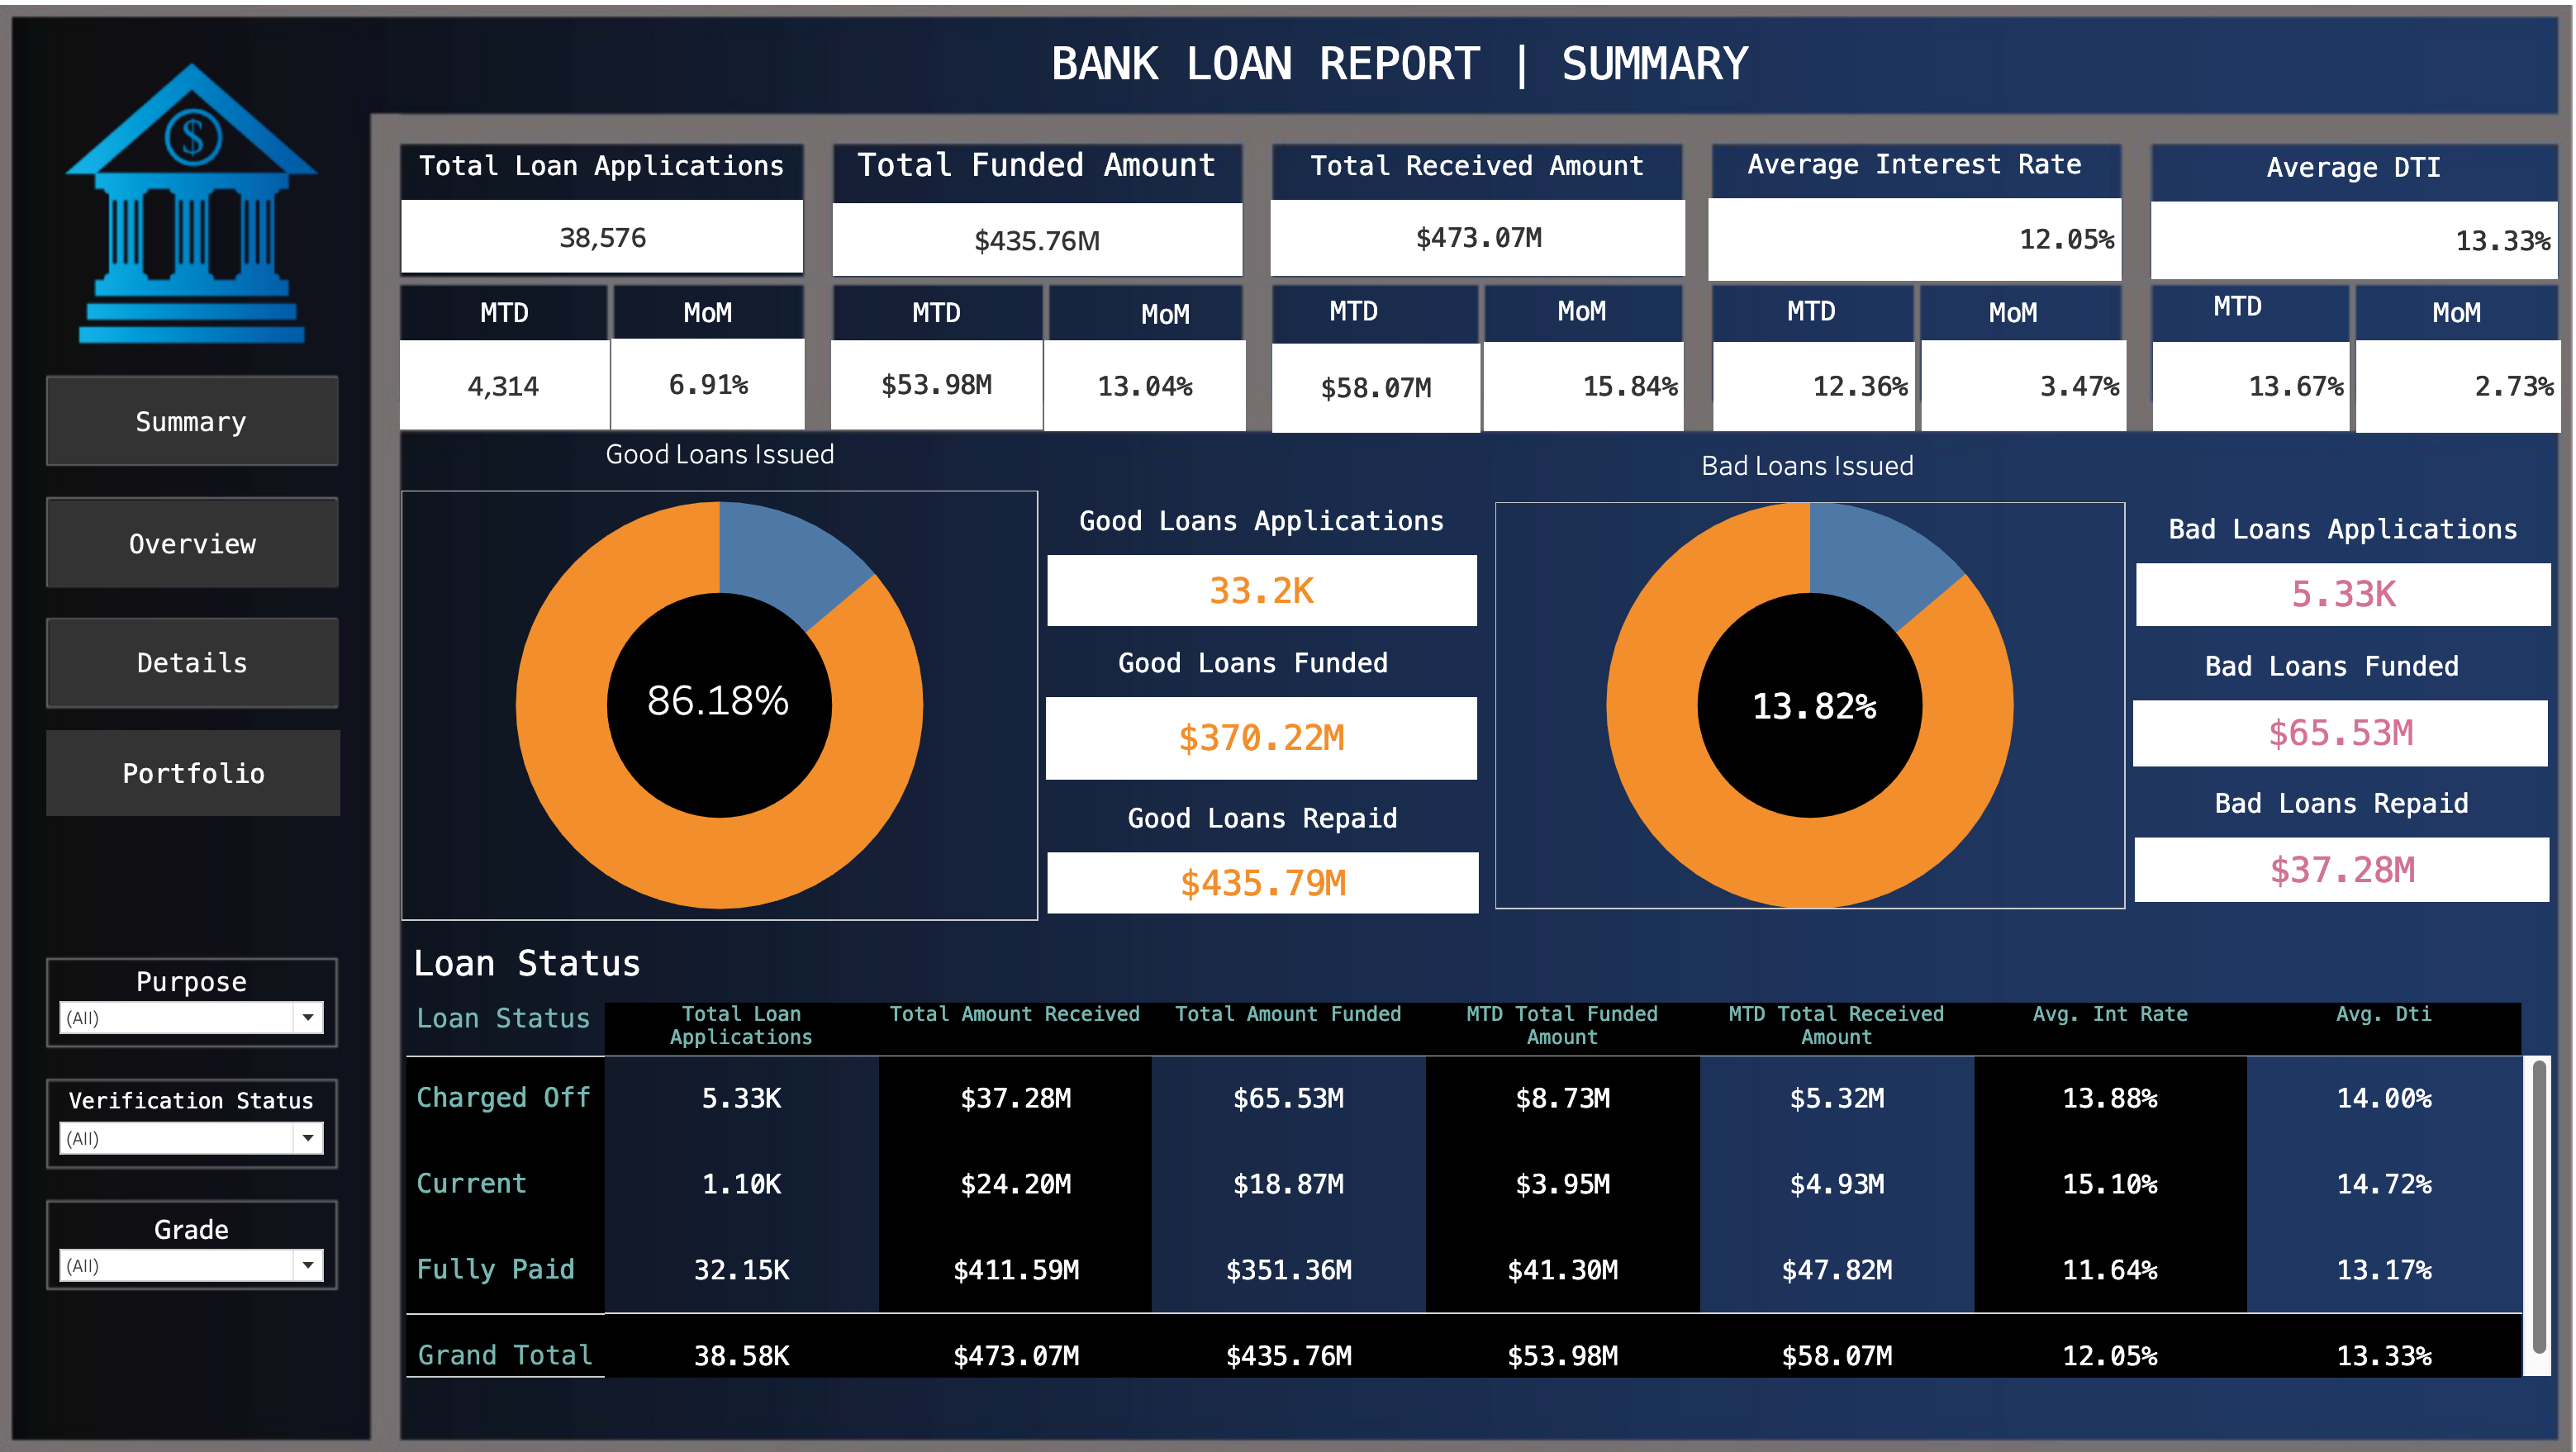

What the dashboard file says about the page in this screenshot:
{"tool":"tableau","page":{"name":"BANK LOAN SUMMARY","canvas":[1600,900],"ordinal":3},"visuals":[{"type":"image","param":"Image/summary-01.jpg","box":[8,8,1584,884]},{"type":"text","box":[384,33,969,30]},{"type":"worksheet","title":"Total Funded Amount","mark":"Automatic","box":[525,94,248,82]},{"type":"worksheet","title":"Average Interest Rate","mark":"Automatic","box":[1055,95,250,84]},{"type":"worksheet","title":"Total Loan Applications","mark":"Automatic","box":[264,96,243,78]},{"type":"worksheet","title":"Total Received Amount","mark":"Automatic","box":[790,96,251,80]},{"type":"worksheet","title":"Average DTI","mark":"Automatic","box":[1323,97,246,81]},{"type":"text","box":[1326,180,100,30]},{"type":"text","box":[791,183,100,30]},{"type":"text","box":[929,183,100,30]},{"type":"text","box":[1068,183,100,30]},{"type":"text","box":[392.3,183.1,115.6,31.2]},{"type":"text","box":[525,184,127,30]},{"type":"text","box":[1190,184,100,30]},{"type":"text","box":[1447,184,123,30]},{"type":"text","box":[263.2,184.2,128,30.2]},{"type":"text","box":[677,185,100,30]},{"type":"worksheet","title":"MoM Total Loan Applications","mark":"Automatic","box":[391,214,117,55]},{"type":"worksheet","title":"MTD Loan Applications","mark":"Automatic","box":[263,215,127,54]},{"type":"worksheet","title":"MTD Total Funded Amount","mark":"Automatic","box":[524,215,128,54]},{"type":"worksheet","title":"MoM Total Funded Amount","mark":"Automatic","box":[653,215,122,55]},{"type":"worksheet","title":"MoM Average Interest Rate","mark":"Automatic","box":[1184,215,124,55]},{"type":"worksheet","title":"MoM Average DTI","mark":"Automatic","box":[1447,215,124,56]},{"type":"worksheet","title":"MoM Total Received Amount","mark":"Automatic","box":[919,216,121,54]},{"type":"worksheet","title":"MTD Average Interest Rate","mark":"Automatic","box":[1058,216,122,54]},{"type":"worksheet","title":"MTD Average DTI","mark":"Automatic","box":[1324,216,119,54]},{"type":"worksheet","title":"MTD Total Received Amount","mark":"Automatic","box":[791,217,126,54]},{"type":"dashboard-object","box":[50,238,175,52]},{"type":"worksheet","title":"Good Loans Issued","mark":"Pie","rows":["Calculation_94153439790411777","Calculation_94153439790411777"],"box":[264,268,386,299]},{"type":"worksheet","title":"Bad Loans Issued ","mark":"Pie","rows":["Calculation_94153439790411777","Calculation_94153439790411777"],"box":[922,271,390,293]},{"type":"worksheet","title":"Good Loans Applications","mark":"Automatic","box":[651,307,268,85]},{"type":"dashboard-object","box":[50,312,175,52]},{"type":"worksheet","title":"Bad Loans Applications","mark":"Automatic","box":[1310,312,259,80]},{"type":"worksheet","title":"Good Loan %","mark":"Automatic","box":[373,360,166,143]},{"type":"worksheet","title":"Bad Loan % ","mark":"Automatic","box":[1016,368,205,138]},{"type":"dashboard-object","box":[51,384,175,52]},{"type":"worksheet","title":"Good Loans Funded ","mark":"Automatic","box":[650,393,269,92]},{"type":"worksheet","title":"Bad Loans Funded ","mark":"Automatic","box":[1308,395,259,82]},{"type":"dashboard-object","box":[49,451,178,52]},{"type":"worksheet","title":"Bad Loans Repaid","mark":"Automatic","box":[1309,478,259,81]},{"type":"worksheet","title":"Good Loans Repaid","mark":"Automatic","box":[651,487,269,79]},{"type":"worksheet","title":"Loan Status","mark":"Automatic","rows":["loan_status"],"box":[263,572,1306,275]},{"type":"filter","title":"Good Loans Issued","param":"[federated.12kh4dk13x4zyx0zkb6am0r0stkr].[none:purpose:nk]","box":[50,590,174,51]},{"type":"filter","title":"Good Loans Issued","param":"[federated.12kh4dk13x4zyx0zkb6am0r0stkr].[none:verification_status:nk]","box":[50,664,174,51]},{"type":"filter","title":"Good Loans Issued","param":"[federated.12kh4dk13x4zyx0zkb6am0r0stkr].[none:grade:nk]","box":[50,738,174,51]}]}

Visuals, with their boxes in screenshot pixels (x1, y1, x2, y2), scaled from the page's 1600x900 canvas onto the 2576x1452 screenshot:
image: <region>13, 13, 2563, 1439</region>
text: <region>618, 53, 2179, 102</region>
"Total Funded Amount" worksheet: <region>845, 152, 1244, 284</region>
"Average Interest Rate" worksheet: <region>1699, 154, 2101, 289</region>
"Total Loan Applications" worksheet: <region>425, 155, 816, 281</region>
"Total Received Amount" worksheet: <region>1272, 155, 1676, 284</region>
"Average DTI" worksheet: <region>2130, 156, 2526, 287</region>
text: <region>2135, 291, 2296, 339</region>
text: <region>1273, 295, 1434, 344</region>
text: <region>1495, 295, 1656, 344</region>
text: <region>1719, 295, 1880, 344</region>
text: <region>631, 296, 818, 346</region>
text: <region>845, 297, 1050, 345</region>
text: <region>1916, 297, 2077, 345</region>
text: <region>2330, 297, 2528, 345</region>
text: <region>424, 297, 630, 346</region>
text: <region>1090, 298, 1251, 347</region>
"MoM Total Loan Applications" worksheet: <region>630, 345, 818, 434</region>
"MTD Loan Applications" worksheet: <region>424, 347, 628, 434</region>
"MTD Total Funded Amount" worksheet: <region>844, 347, 1050, 434</region>
"MoM Total Funded Amount" worksheet: <region>1052, 347, 1248, 435</region>
"MoM Average Interest Rate" worksheet: <region>1906, 347, 2106, 435</region>
"MoM Average DTI" worksheet: <region>2330, 347, 2529, 437</region>
"MoM Total Received Amount" worksheet: <region>1480, 349, 1675, 435</region>
"MTD Average Interest Rate" worksheet: <region>1704, 349, 1900, 435</region>
"MTD Average DTI" worksheet: <region>2132, 349, 2323, 435</region>
"MTD Total Received Amount" worksheet: <region>1273, 350, 1476, 437</region>
dashboard-object: <region>80, 384, 362, 467</region>
"Good Loans Issued" worksheet (Pie marks): <region>425, 432, 1047, 915</region>
"Bad Loans Issued " worksheet (Pie marks): <region>1485, 437, 2113, 910</region>
"Good Loans Applications" worksheet: <region>1048, 496, 1480, 633</region>
dashboard-object: <region>80, 503, 362, 587</region>
"Bad Loans Applications" worksheet: <region>2109, 503, 2526, 633</region>
"Good Loan %" worksheet: <region>601, 581, 867, 812</region>
"Bad Loan % " worksheet: <region>1636, 594, 1965, 816</region>
dashboard-object: <region>82, 619, 364, 704</region>
"Good Loans Funded " worksheet: <region>1047, 634, 1480, 782</region>
"Bad Loans Funded " worksheet: <region>2106, 638, 2523, 770</region>
dashboard-object: <region>78, 728, 365, 812</region>
"Bad Loans Repaid" worksheet: <region>2108, 771, 2525, 902</region>
"Good Loans Repaid" worksheet: <region>1048, 785, 1481, 913</region>
"Loan Status" worksheet: <region>424, 923, 2526, 1366</region>
"Good Loans Issued" filter: <region>80, 951, 361, 1034</region>
"Good Loans Issued" filter: <region>80, 1071, 361, 1154</region>
"Good Loans Issued" filter: <region>80, 1191, 361, 1273</region>
